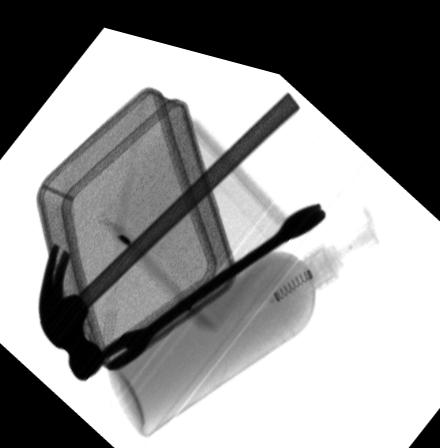Hammer: (38, 74, 298, 375)
Wrench: (94, 188, 326, 363)
